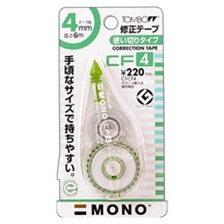book: (54, 4, 169, 221)
correction_fluid: (77, 53, 145, 200)
